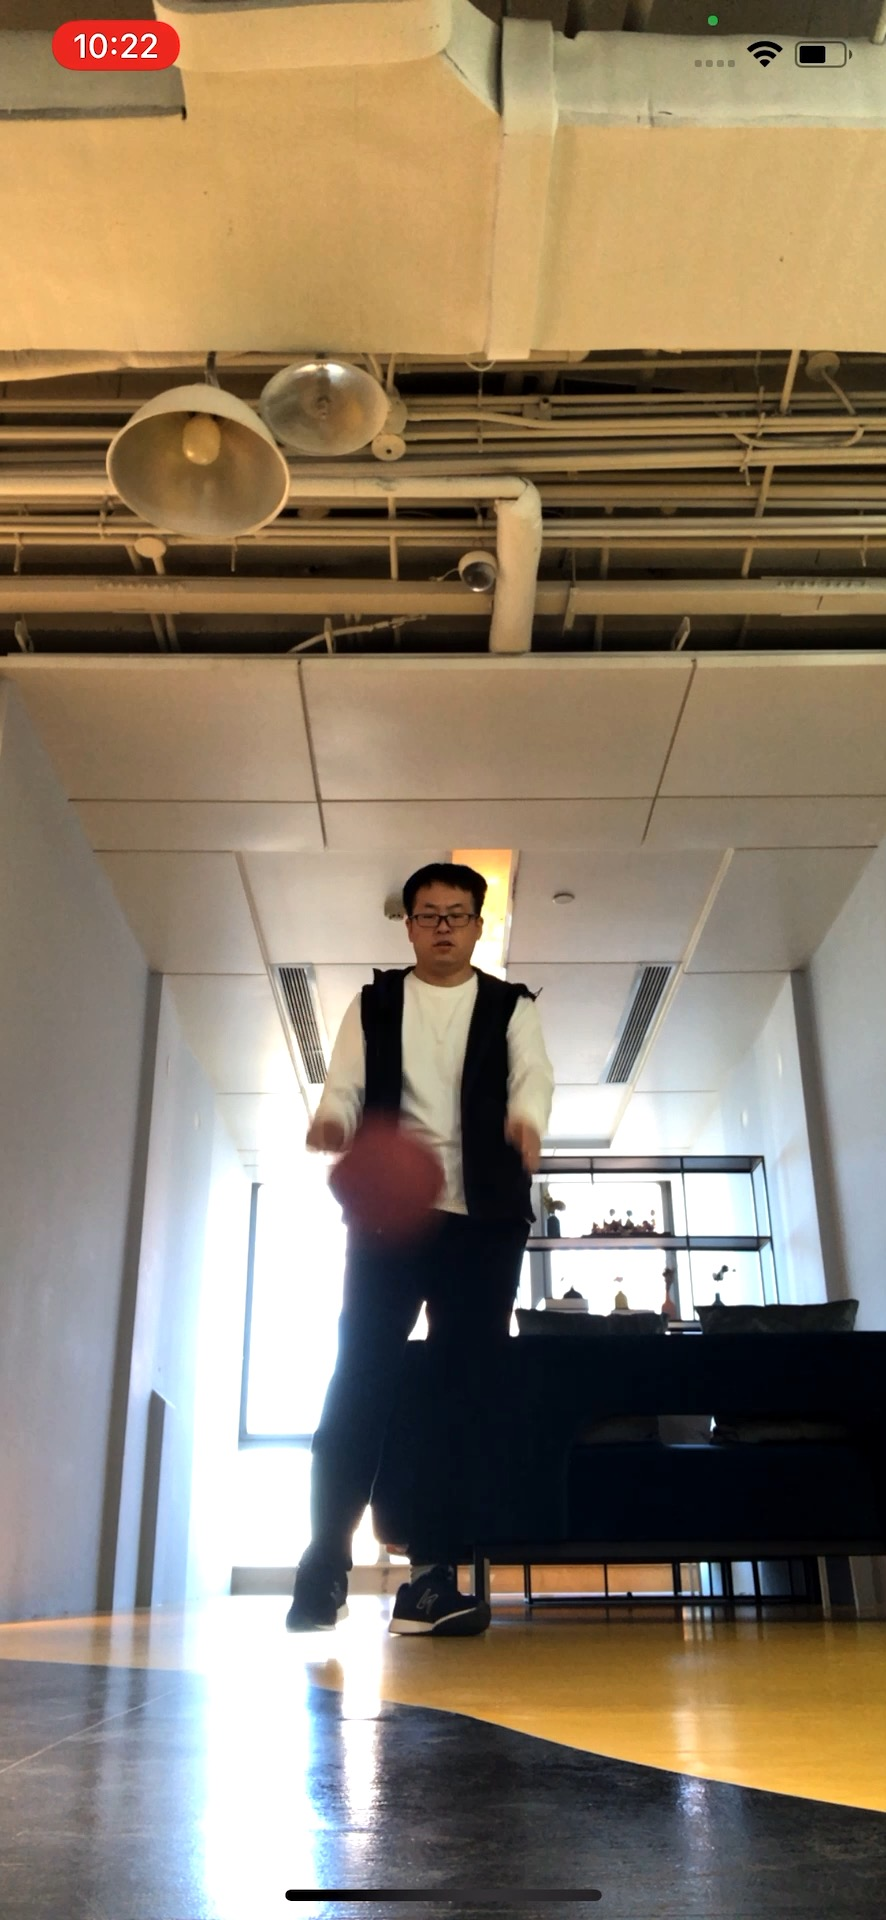ball: (329, 1119, 447, 1231)
